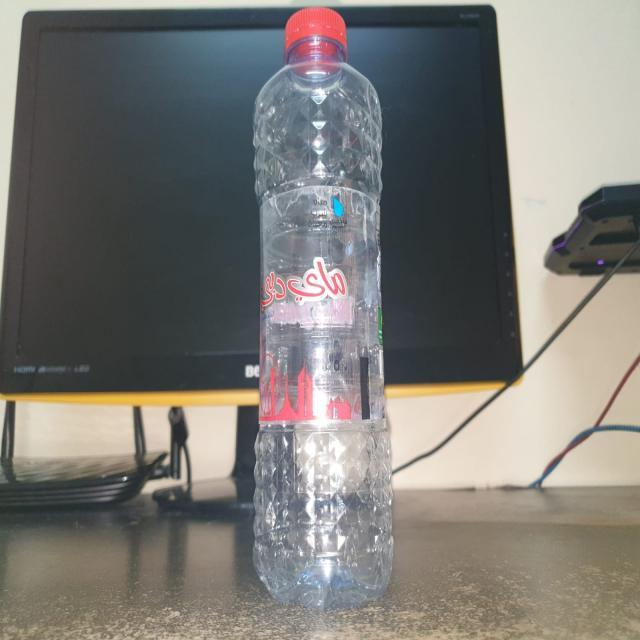chai: (254, 9, 392, 608)
